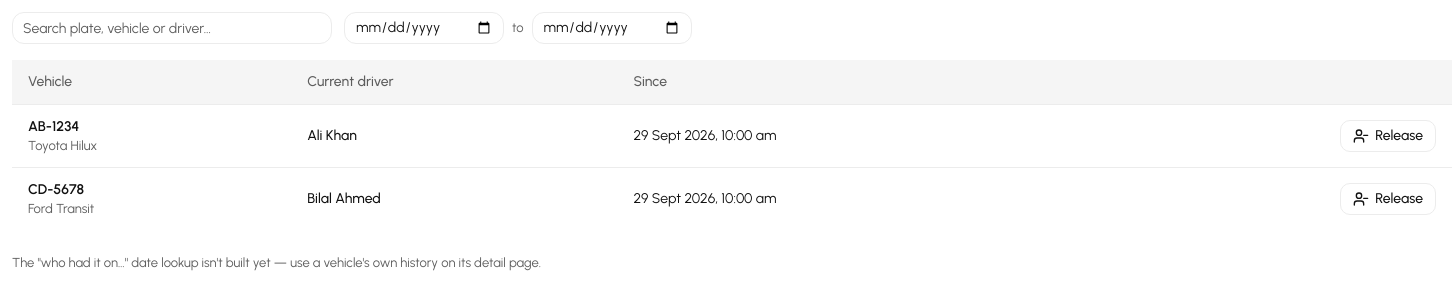
Scenario: Assignment filters › searches by plate, by make/model and by current driver
In the field named "Search assignments": (172, 28) [12,12,332,44], type "cd-56"
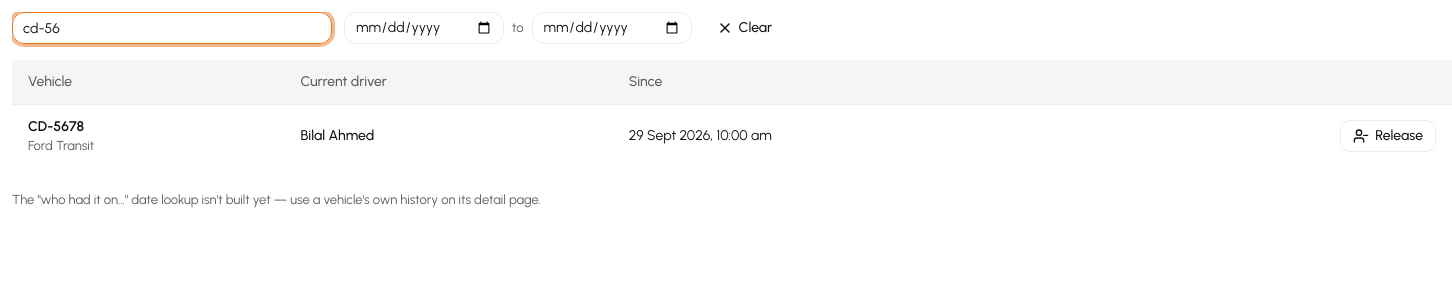
Check: the link "CD-5678" is shown, box [28,118,84,134]
Check: the link "AB-1234" is gone
Replace the text in the field named "Search assignments" with "hilux": (172, 28) [12,12,332,44]
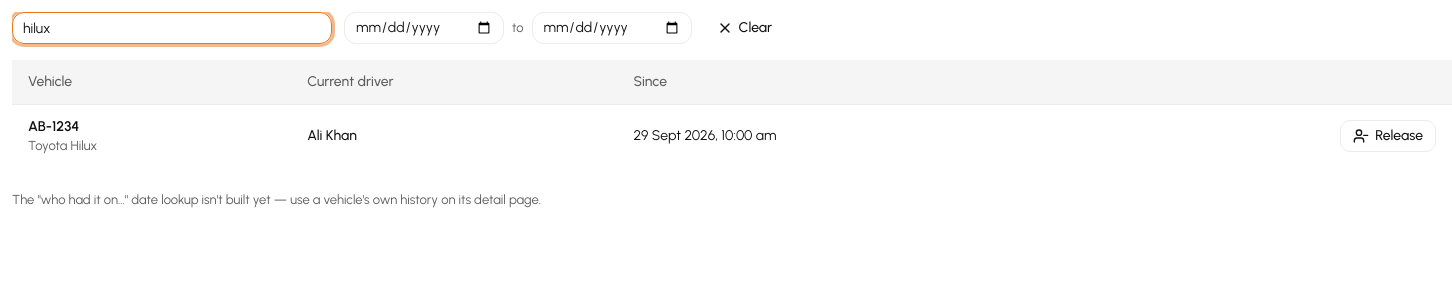
Check: the link "CD-5678" is not shown
Check: the link "AB-1234" is shown, box [28,118,79,134]
Replace the text in the field named "Search assignments" with "bilal": (172, 28) [12,12,332,44]
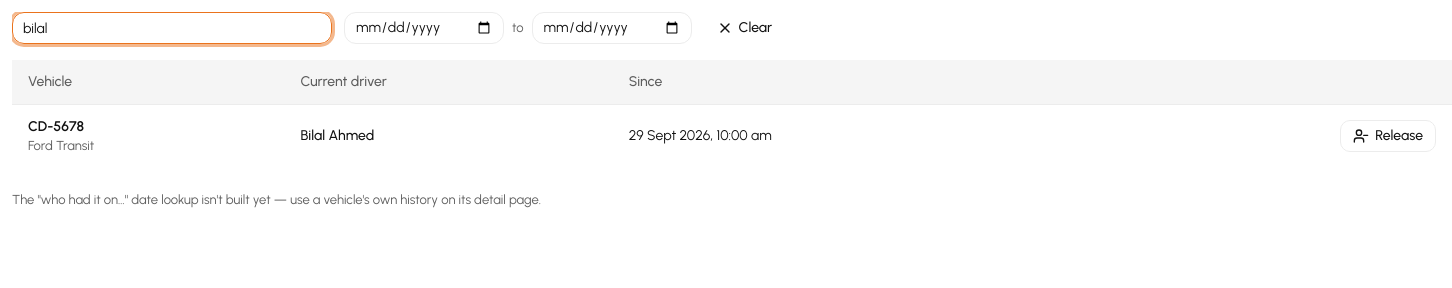
Check: the link "CD-5678" is shown, box [28,118,84,134]
Check: the link "AB-1234" is gone
